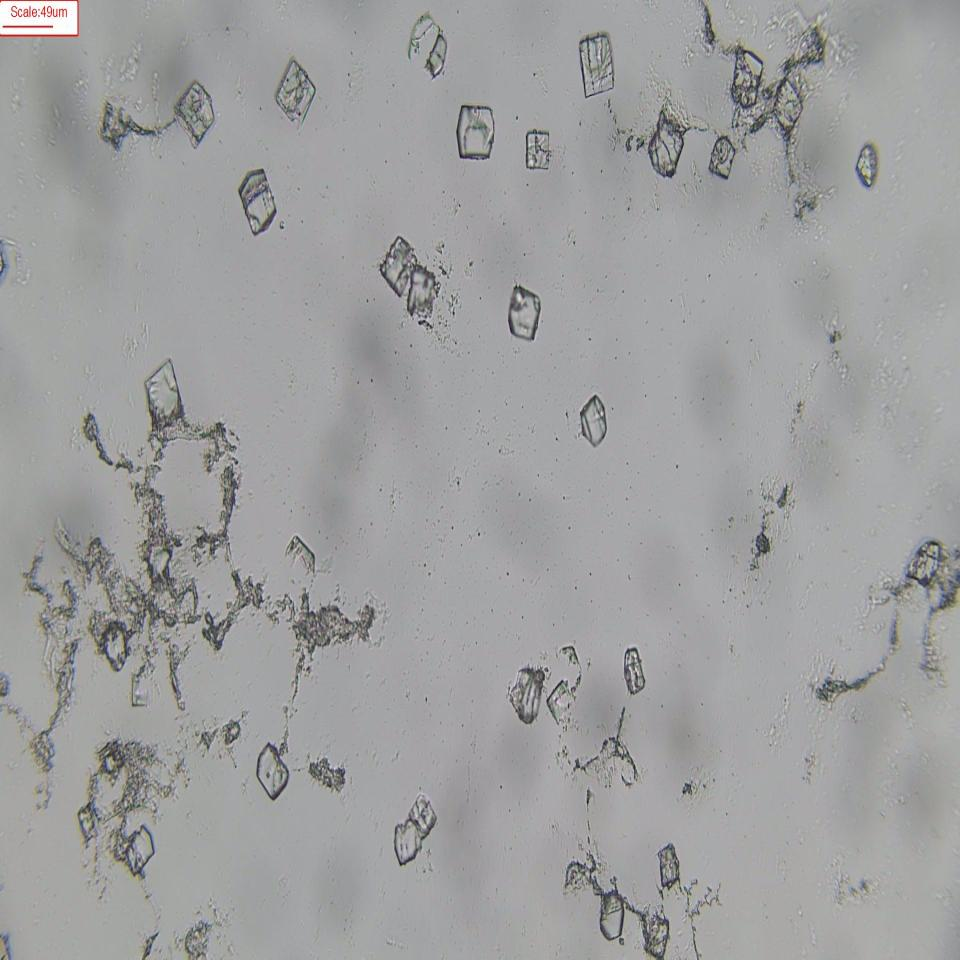crystal: (175, 74, 231, 138), (93, 611, 135, 680), (277, 57, 316, 129), (144, 358, 184, 427), (369, 238, 414, 298), (239, 171, 277, 232), (578, 35, 614, 95), (459, 103, 495, 162), (254, 742, 290, 800), (509, 285, 541, 345), (650, 114, 680, 171), (580, 393, 609, 451), (775, 78, 802, 130), (600, 888, 625, 942), (524, 128, 552, 172), (854, 142, 879, 190), (710, 134, 734, 180)
